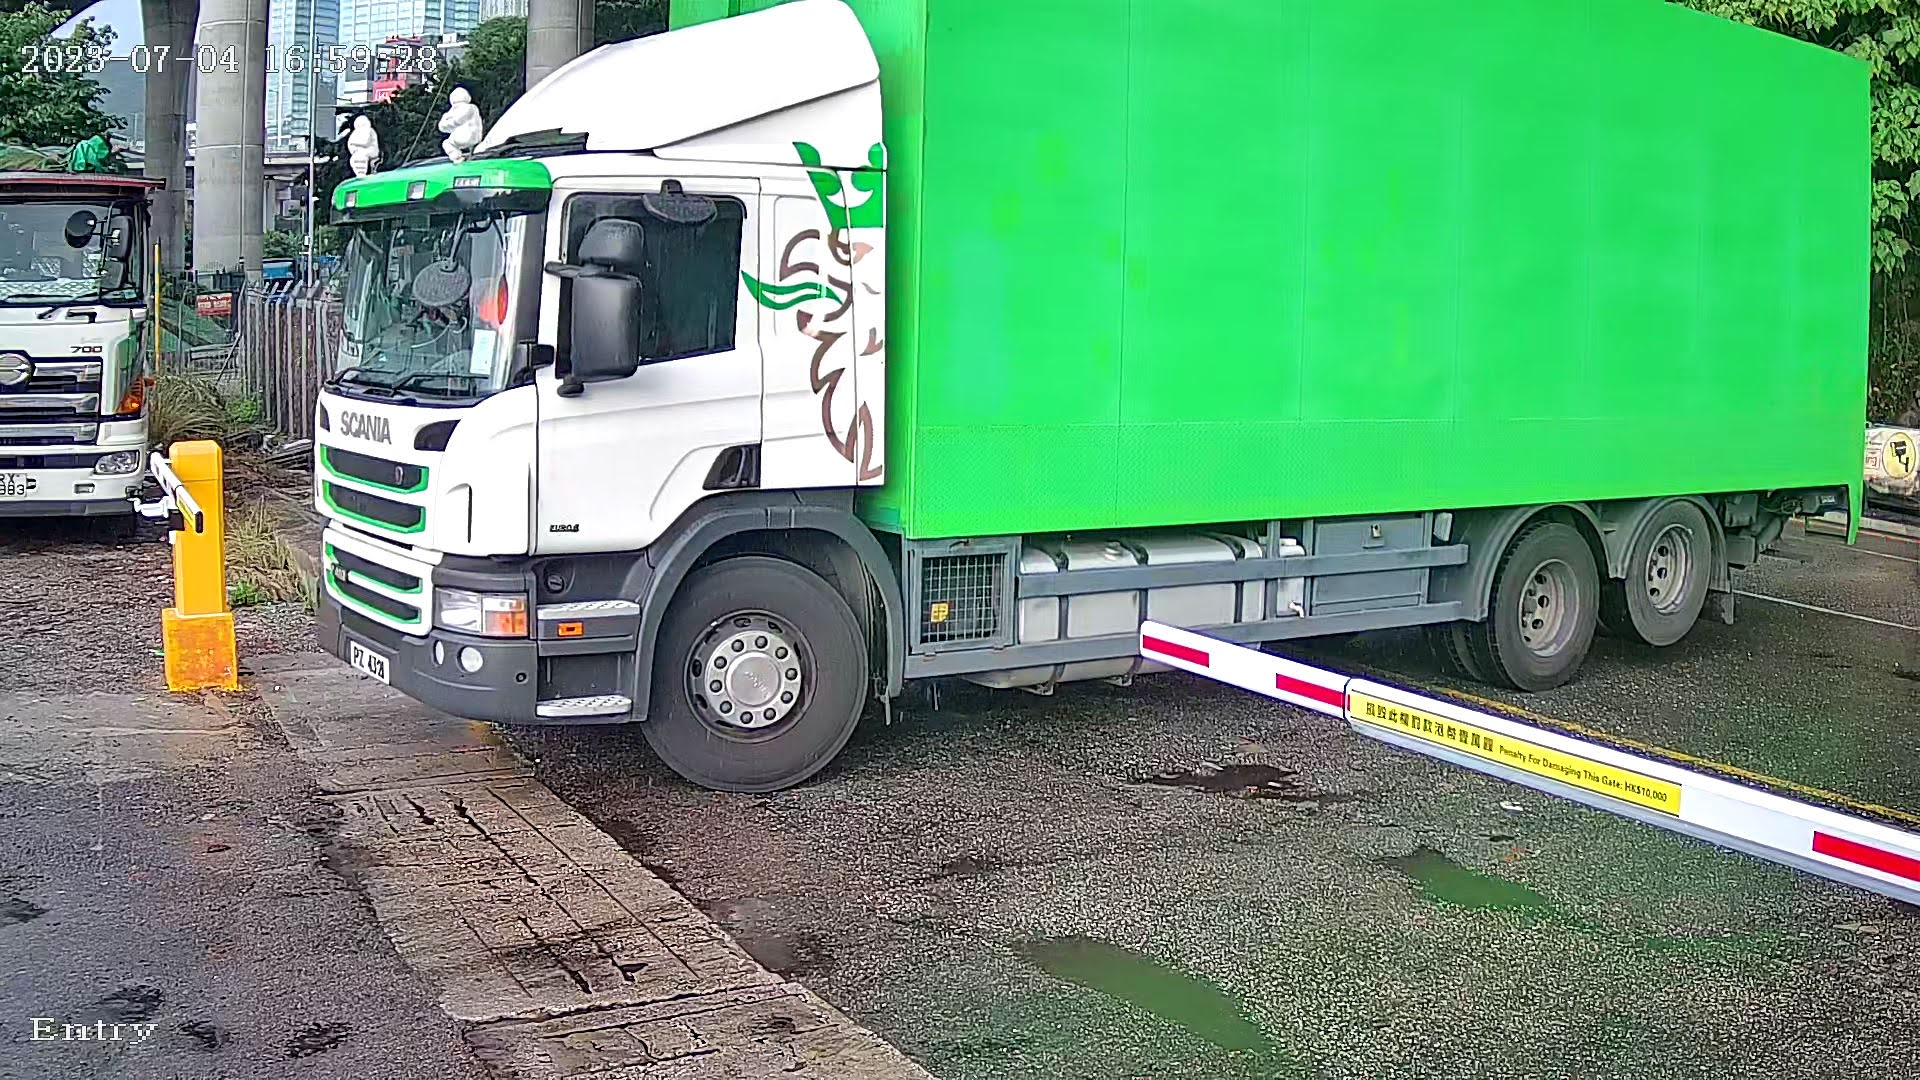truck_large: (293, 3, 1920, 818)
